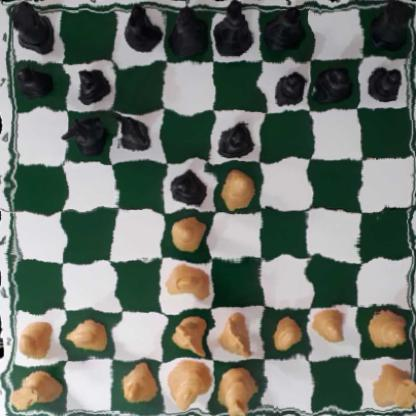black-bishop: (263, 1, 305, 54), (121, 2, 163, 50)
black-king: (214, 2, 256, 57)
black-knight: (106, 110, 153, 153), (64, 114, 102, 158)
black-pawn: (215, 117, 256, 160), (315, 63, 350, 106), (368, 61, 402, 103), (73, 63, 105, 107), (172, 171, 208, 210), (20, 63, 53, 103), (273, 70, 306, 108)
black-queen: (170, 3, 212, 57)
black-rook: (9, 0, 60, 55), (365, 1, 411, 49)
white-bishop: (169, 259, 211, 303), (118, 362, 156, 409)
white-king: (215, 361, 257, 416)
white-knight: (218, 310, 256, 358), (171, 316, 209, 357)
white-pawn: (364, 311, 411, 349), (16, 320, 60, 357), (73, 315, 110, 352), (170, 215, 210, 249), (313, 308, 349, 345), (219, 173, 255, 206), (272, 314, 304, 351)
white-queen: (171, 359, 210, 415)
white-rook: (367, 360, 416, 409), (10, 365, 60, 411)
